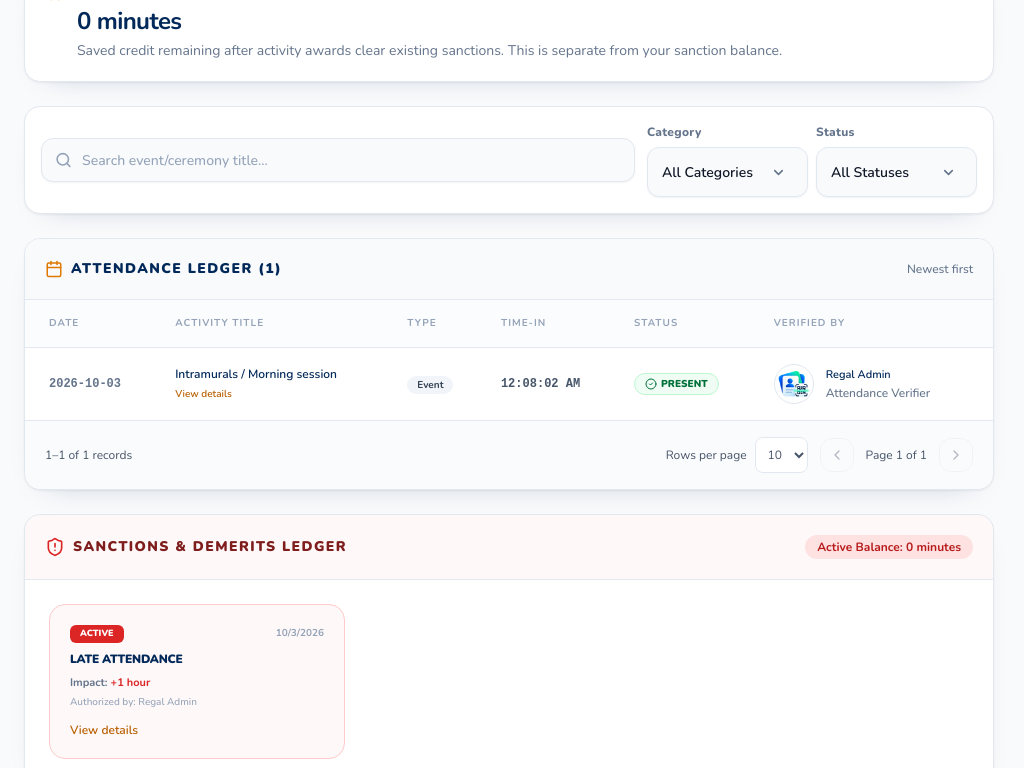
Test case: opens attendance details from the desktop title and sanction details from its card
(page scrolled)
Step 1. Click the button "Intramurals / Morning session View details" → (256, 384), box [175, 366, 337, 402]
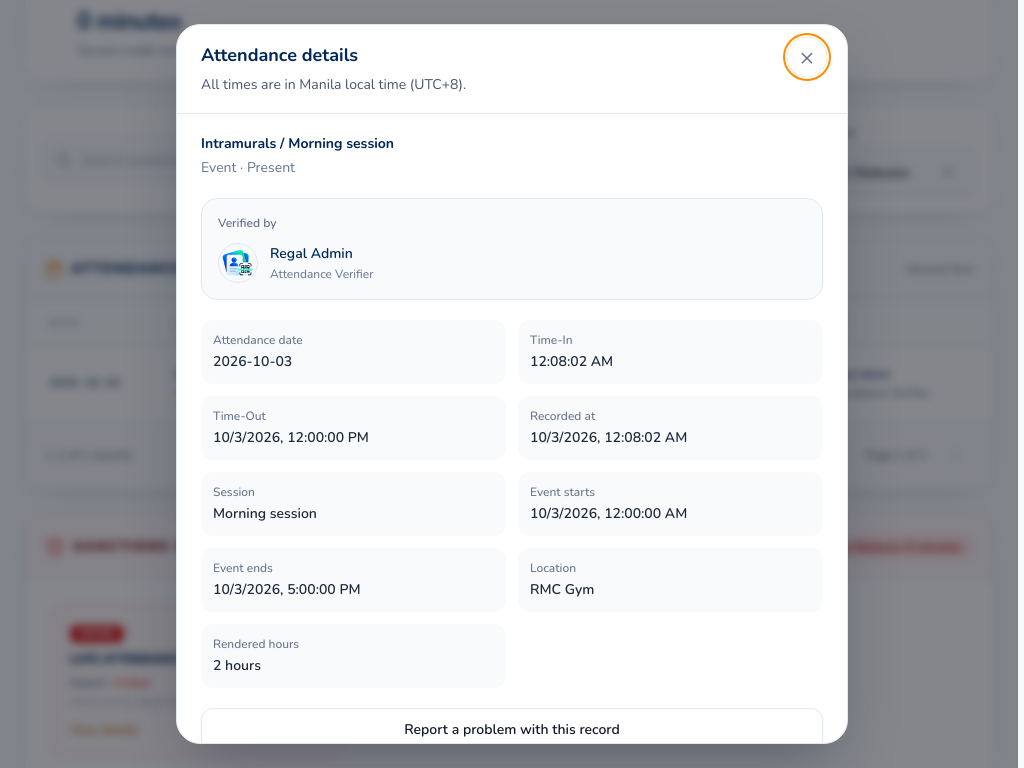
Expected: the dialog "Attendance details" is shown
Step 2. Click the button named "Close dialog" → (807, 57), box [787, 37, 827, 77]
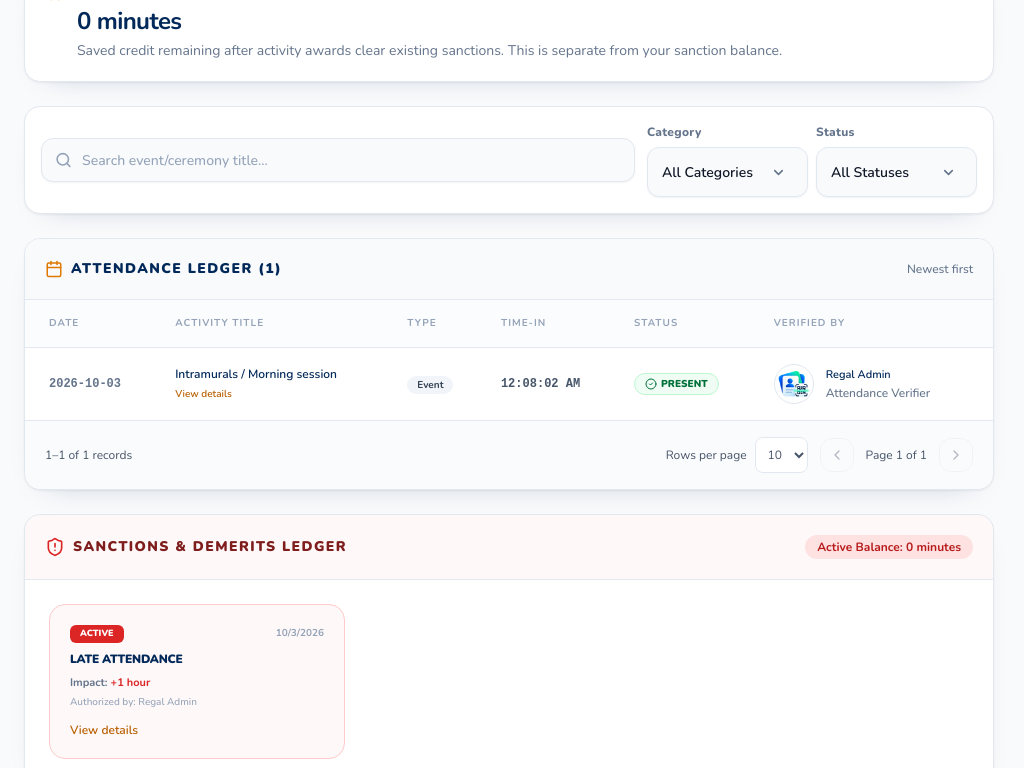
Step 3. Click the button with aria-label "View sanction details: Late attendance" → (97, 634), box [49, 604, 345, 759]
(page scrolled)
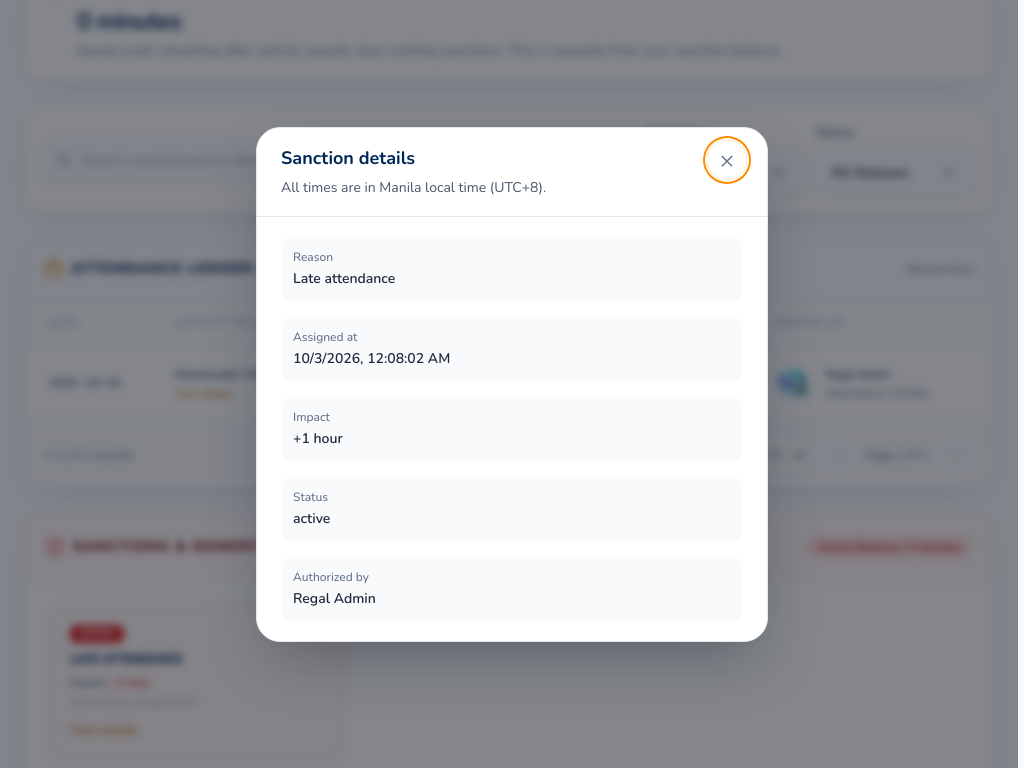
Expected: the text "10/3/2026, 12:08:02 AM" is shown, [293, 348, 450, 368]
Expected: the text "+1 hour" is shown, [293, 428, 343, 448]
